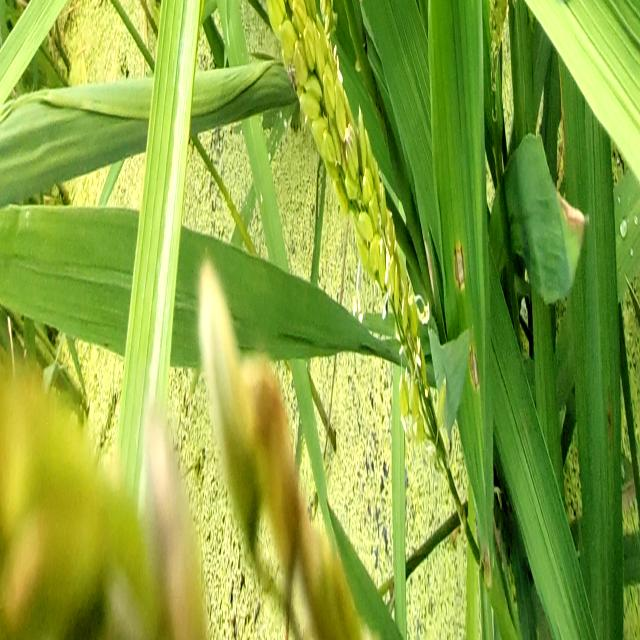LEAF BLAST: (468, 342, 480, 394), (453, 240, 464, 290)
